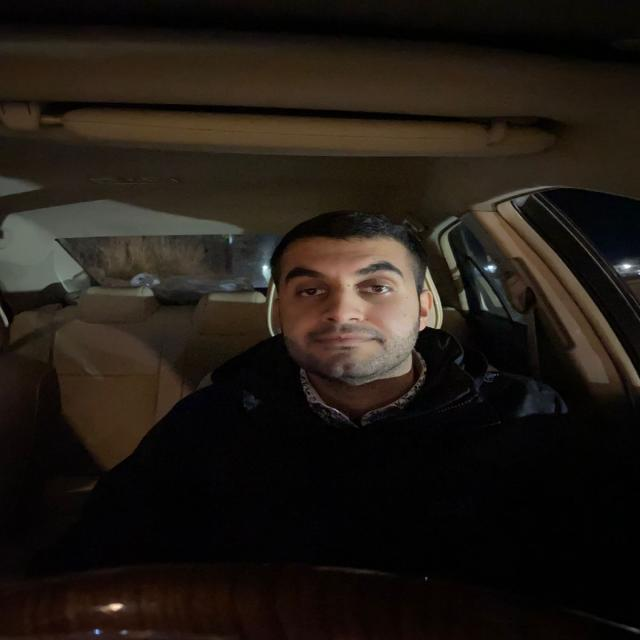person: (254, 207, 449, 400)
